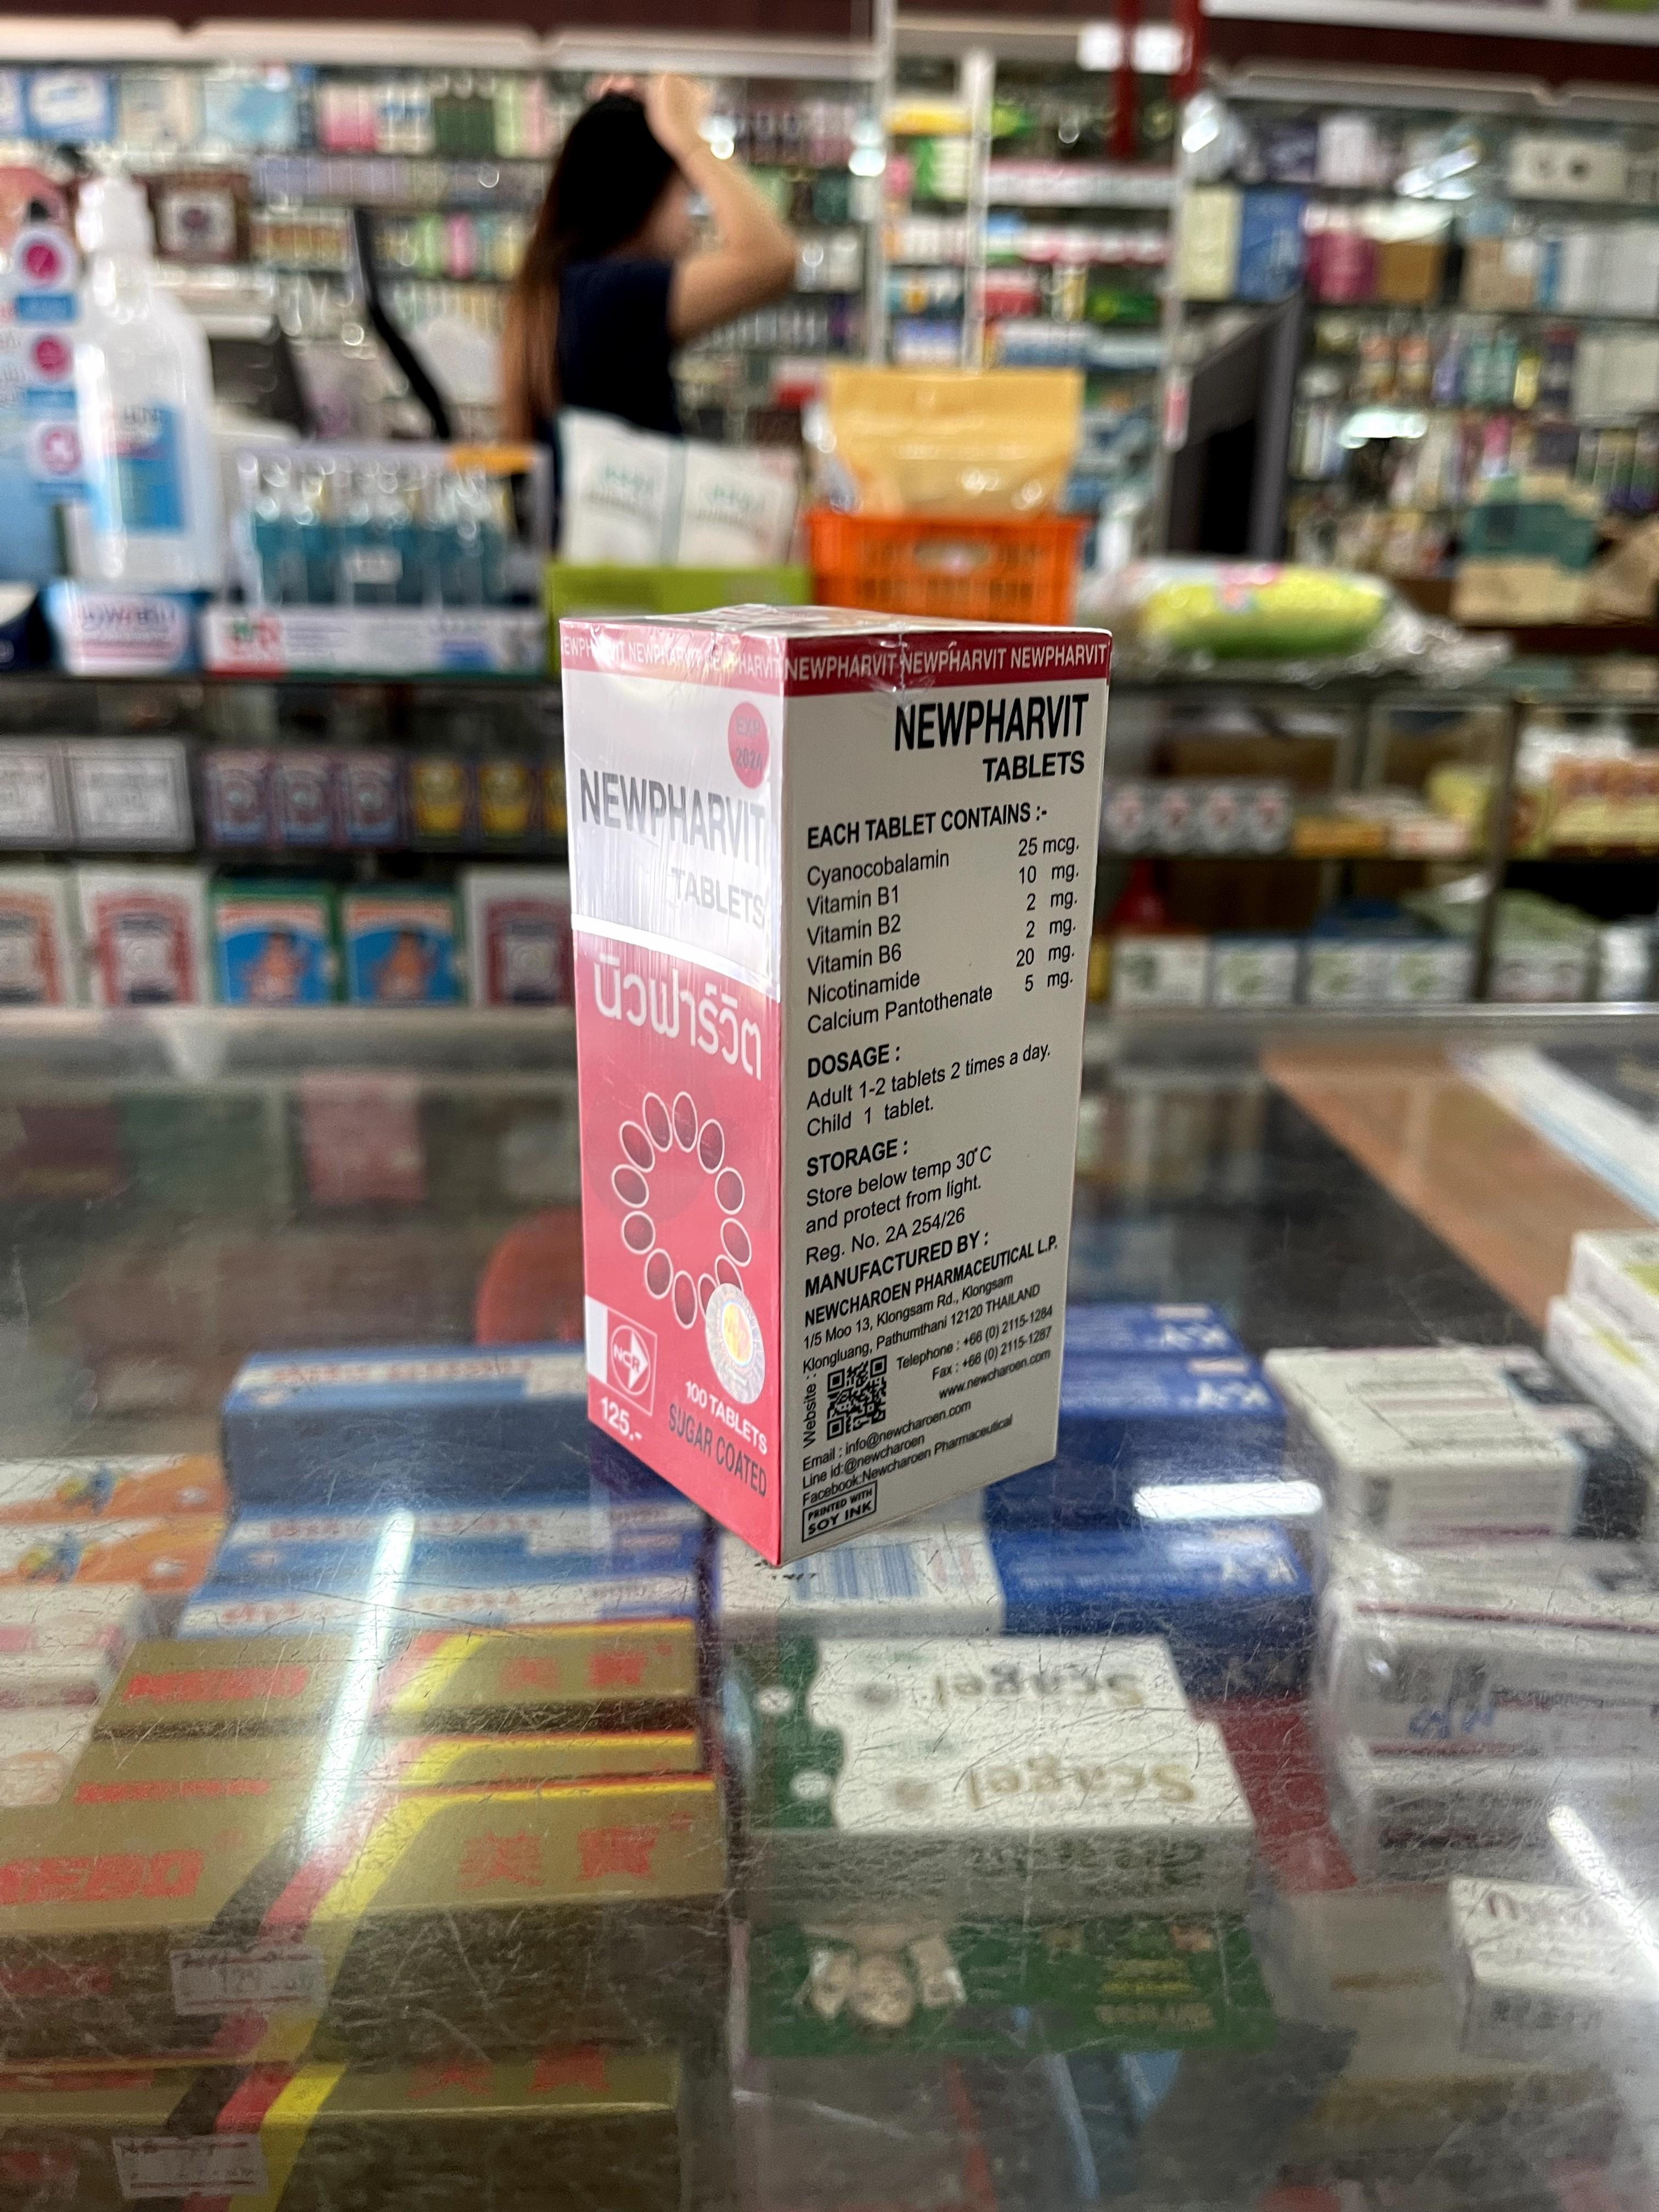Newpharvit: (563, 603, 1105, 1561)
